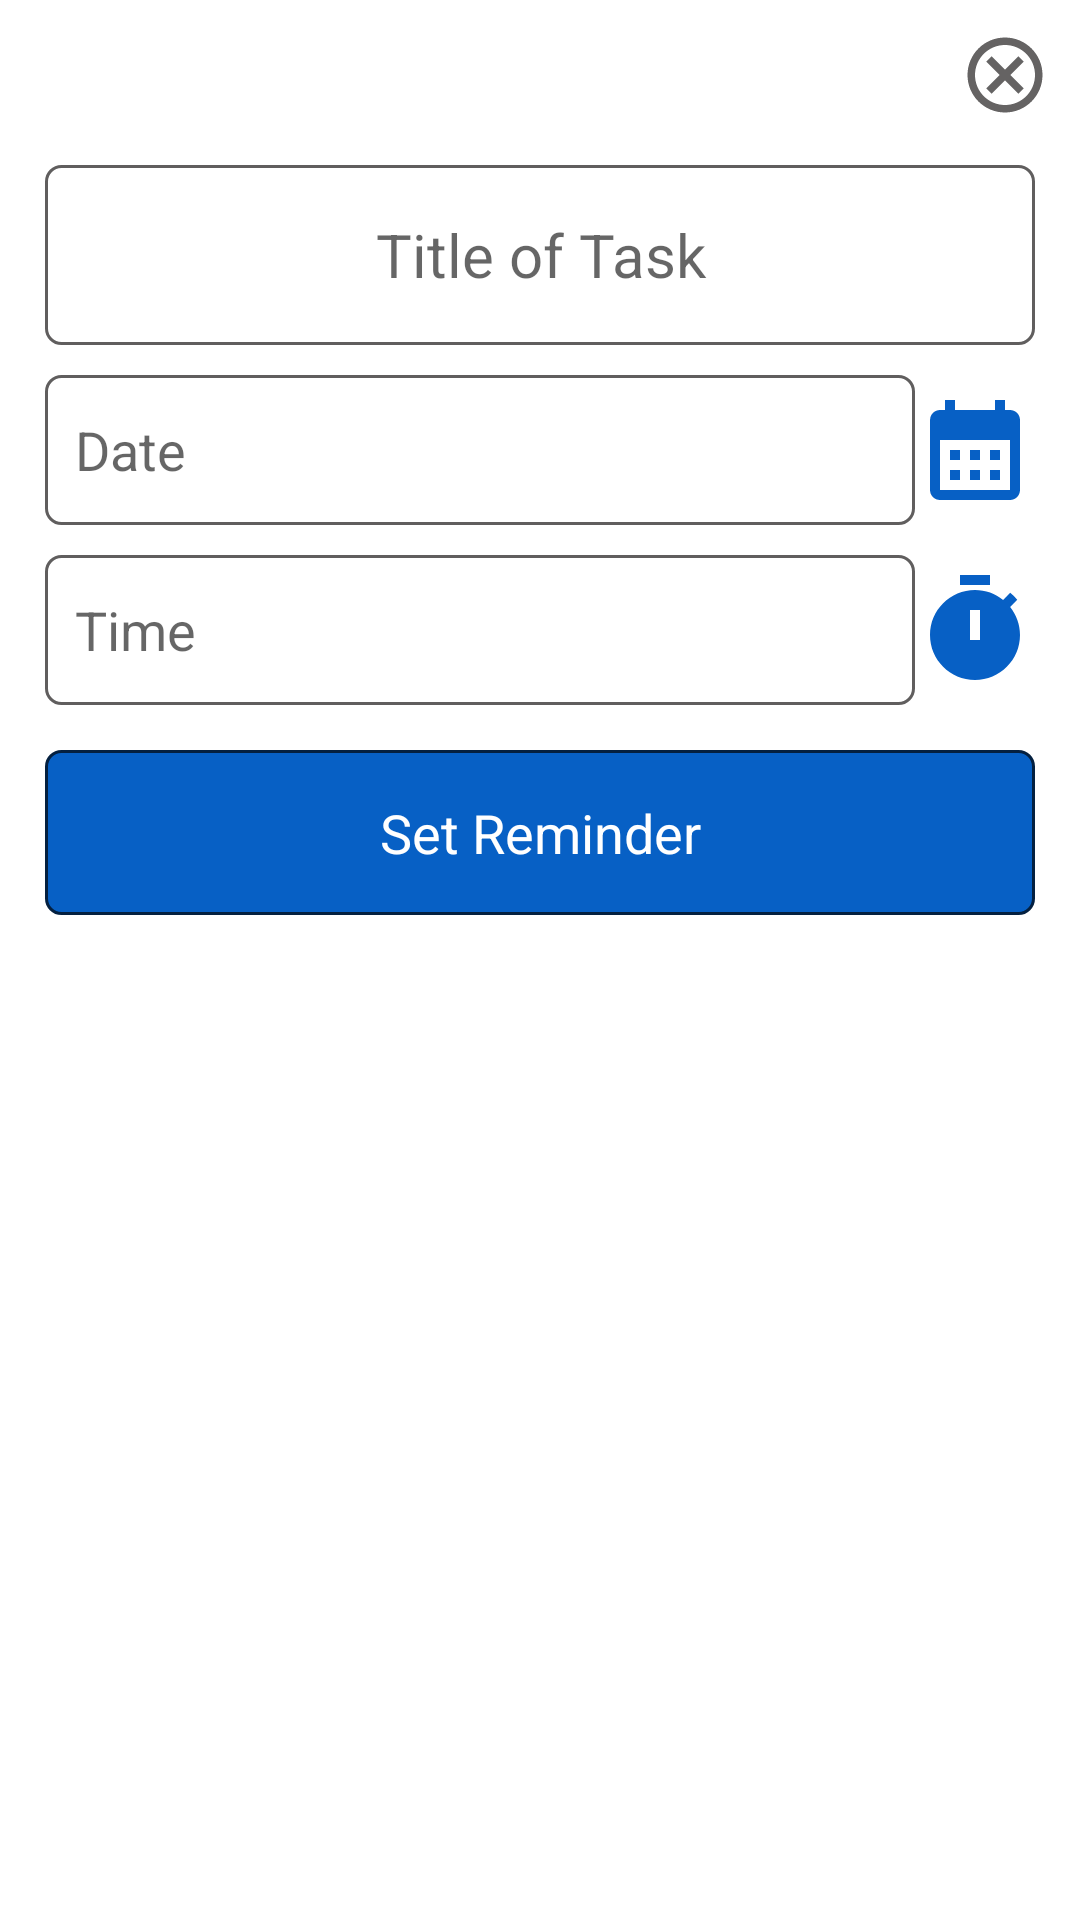

Screen size 1080*1920. Icon name, then its box in pixels as (x1, y1, x2, y2):
calendar month: (930, 400, 1020, 500)
cancel: (967, 37, 1043, 113)
